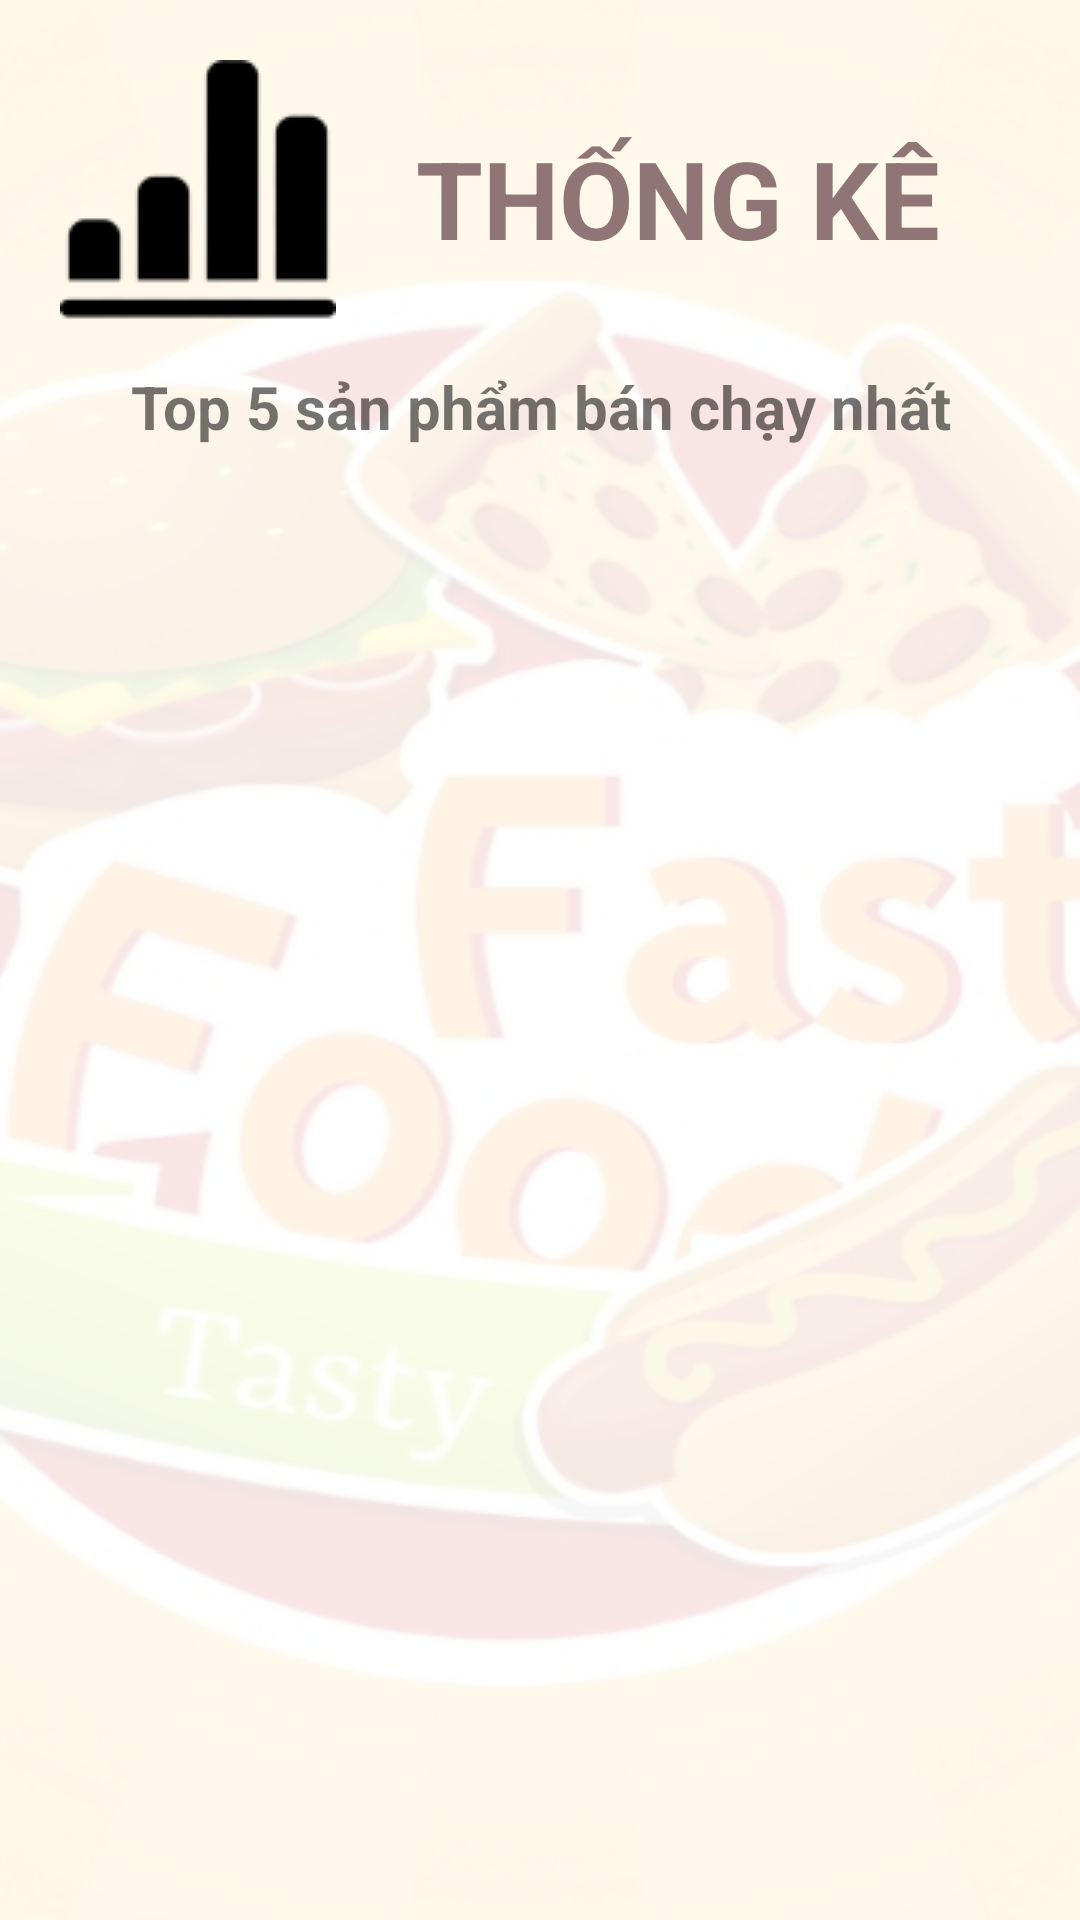

Named icons in this screenshot (1080x1920) and their centers, (x,y):
thongke: (198,189)
